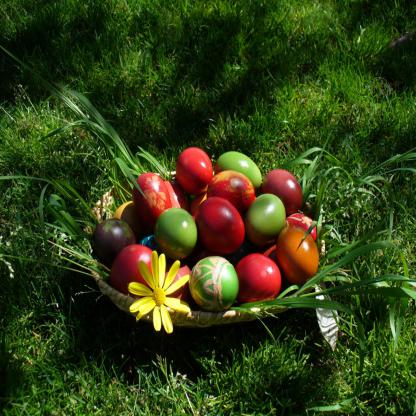Ball: (175, 147, 214, 196)
